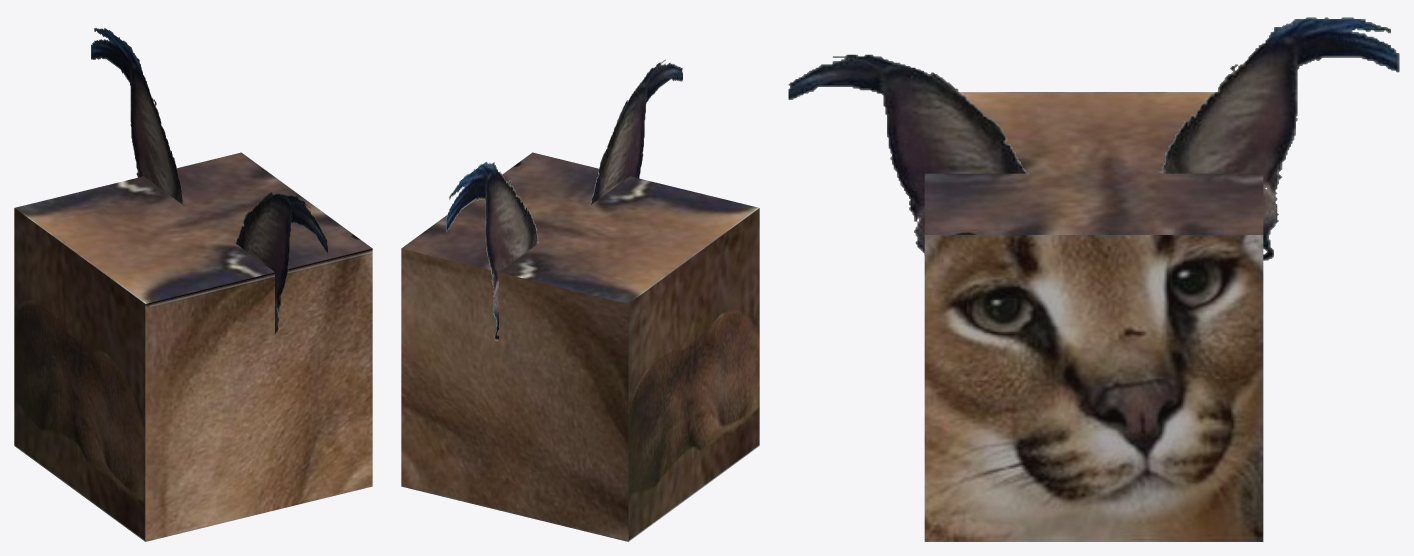
Rendered from FloppaCube.obj.
The picture shows the model from 3 angles, left to right: view 1: azimuth 30°, elevation 25°; view 2: azimuth 150°, elevation 25°; view 3: azimuth 270°, elevation 25°; orthographic projection. The views are drawn at different scales.
Size of the model in its own units: 2 by 3.04 by 3.61.
Materials: 2 (2 with a texture image).
